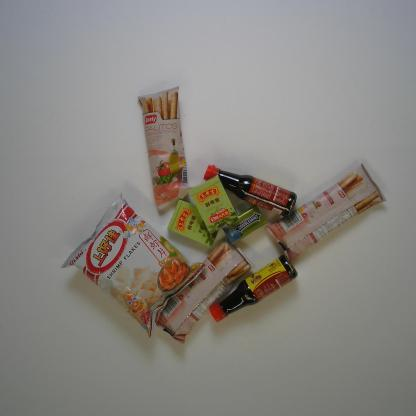Candy: (188, 174, 239, 234), (166, 199, 220, 248)
Dessert: (265, 162, 388, 262), (156, 235, 256, 346), (137, 85, 192, 212)
Gum: (222, 204, 268, 245)
Puffed Food: (59, 191, 207, 340)
Seasoner: (209, 254, 298, 323), (202, 164, 298, 217)
